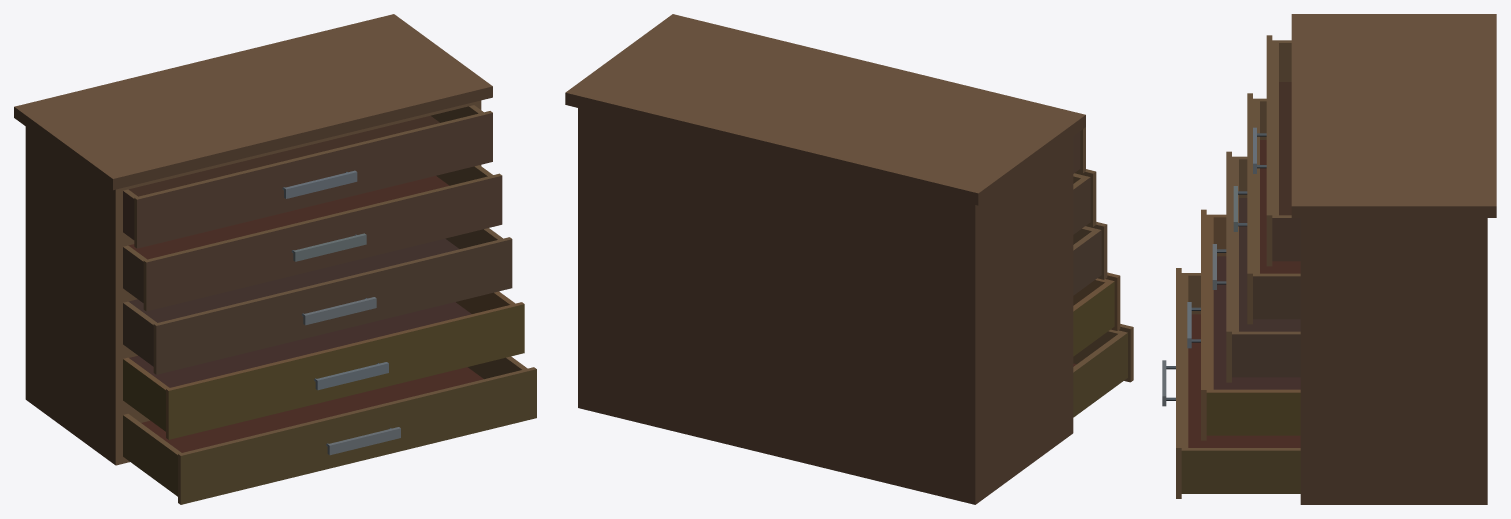
Rendered from small_closet.fbx.
3 renders of one model, left to right at view 1: azimuth 30°, elevation 25°; view 2: azimuth 150°, elevation 25°; view 3: azimuth 270°, elevation 25°, orthographic. The views are drawn at different scales.
Visible parts, largest first — view 1: Small closet, Small closet.001, Small closet.017, Small closet.015, Small closet.009, Small closet.005; view 2: Small closet, Small closet.001, Small closet.017, Small closet.015, Small closet.009; view 3: Small closet, Small closet.001, Small closet.017, Small closet.015, Small closet.009, Small closet.005.
Boxes of the visible parts, <box> form: Small closet: <box>14,14,492,465</box>; Small closet.001: <box>123,356,536,504</box>; Small closet.017: <box>123,291,524,439</box>; Small closet.015: <box>123,228,512,374</box>; Small closet.009: <box>123,165,502,311</box>; Small closet.005: <box>123,105,492,248</box>; Small closet: <box>565,14,1085,504</box>; Small closet.001: <box>1073,324,1133,417</box>; Small closet.017: <box>1073,272,1120,356</box>; Small closet.015: <box>1073,222,1107,295</box>; Small closet.009: <box>1073,169,1096,234</box>; Small closet: <box>1291,14,1496,504</box>; Small closet.001: <box>1162,268,1300,498</box>; Small closet.017: <box>1187,209,1300,440</box>; Small closet.015: <box>1212,151,1300,382</box>; Small closet.009: <box>1233,93,1300,324</box>; Small closet.005: <box>1253,35,1300,266</box>.
Bounding box in the file's own units: 1.88 × 1.38 × 1.38.
